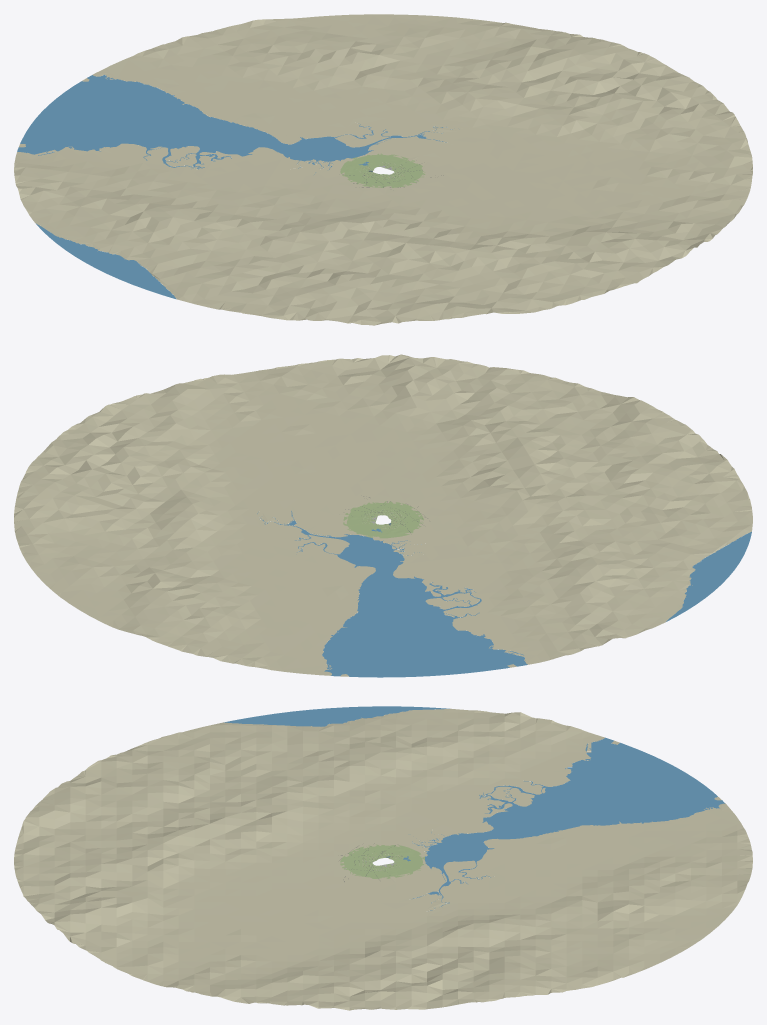
File: backdrop.glb
3 views of the same model, one above another, from view 1: azimuth 30°, elevation 25°; view 2: azimuth 150°, elevation 25°; view 3: azimuth 270°, elevation 25° (orthographic).
Visible parts, largest first — view 1: backdrop_horizon_land, backdrop_horizon_water, backdrop_terrain_grass; view 2: backdrop_horizon_land, backdrop_horizon_water, backdrop_terrain_grass; view 3: backdrop_horizon_land, backdrop_horizon_water, backdrop_terrain_grass.
Part boxes in pixels (box(x1,y1,x2,y2)): backdrop_horizon_land: box(14, 14, 752, 325); backdrop_horizon_water: box(17, 75, 452, 299); backdrop_terrain_grass: box(340, 153, 425, 187); backdrop_horizon_land: box(14, 354, 752, 676); backdrop_horizon_water: box(257, 511, 751, 677); backdrop_terrain_grass: box(343, 501, 423, 538); backdrop_horizon_land: box(14, 708, 752, 1010); backdrop_horizon_water: box(224, 706, 724, 910); backdrop_terrain_grass: box(340, 844, 424, 878).
Bounding box in the file's own units: 71140 × 1099 × 71434.
